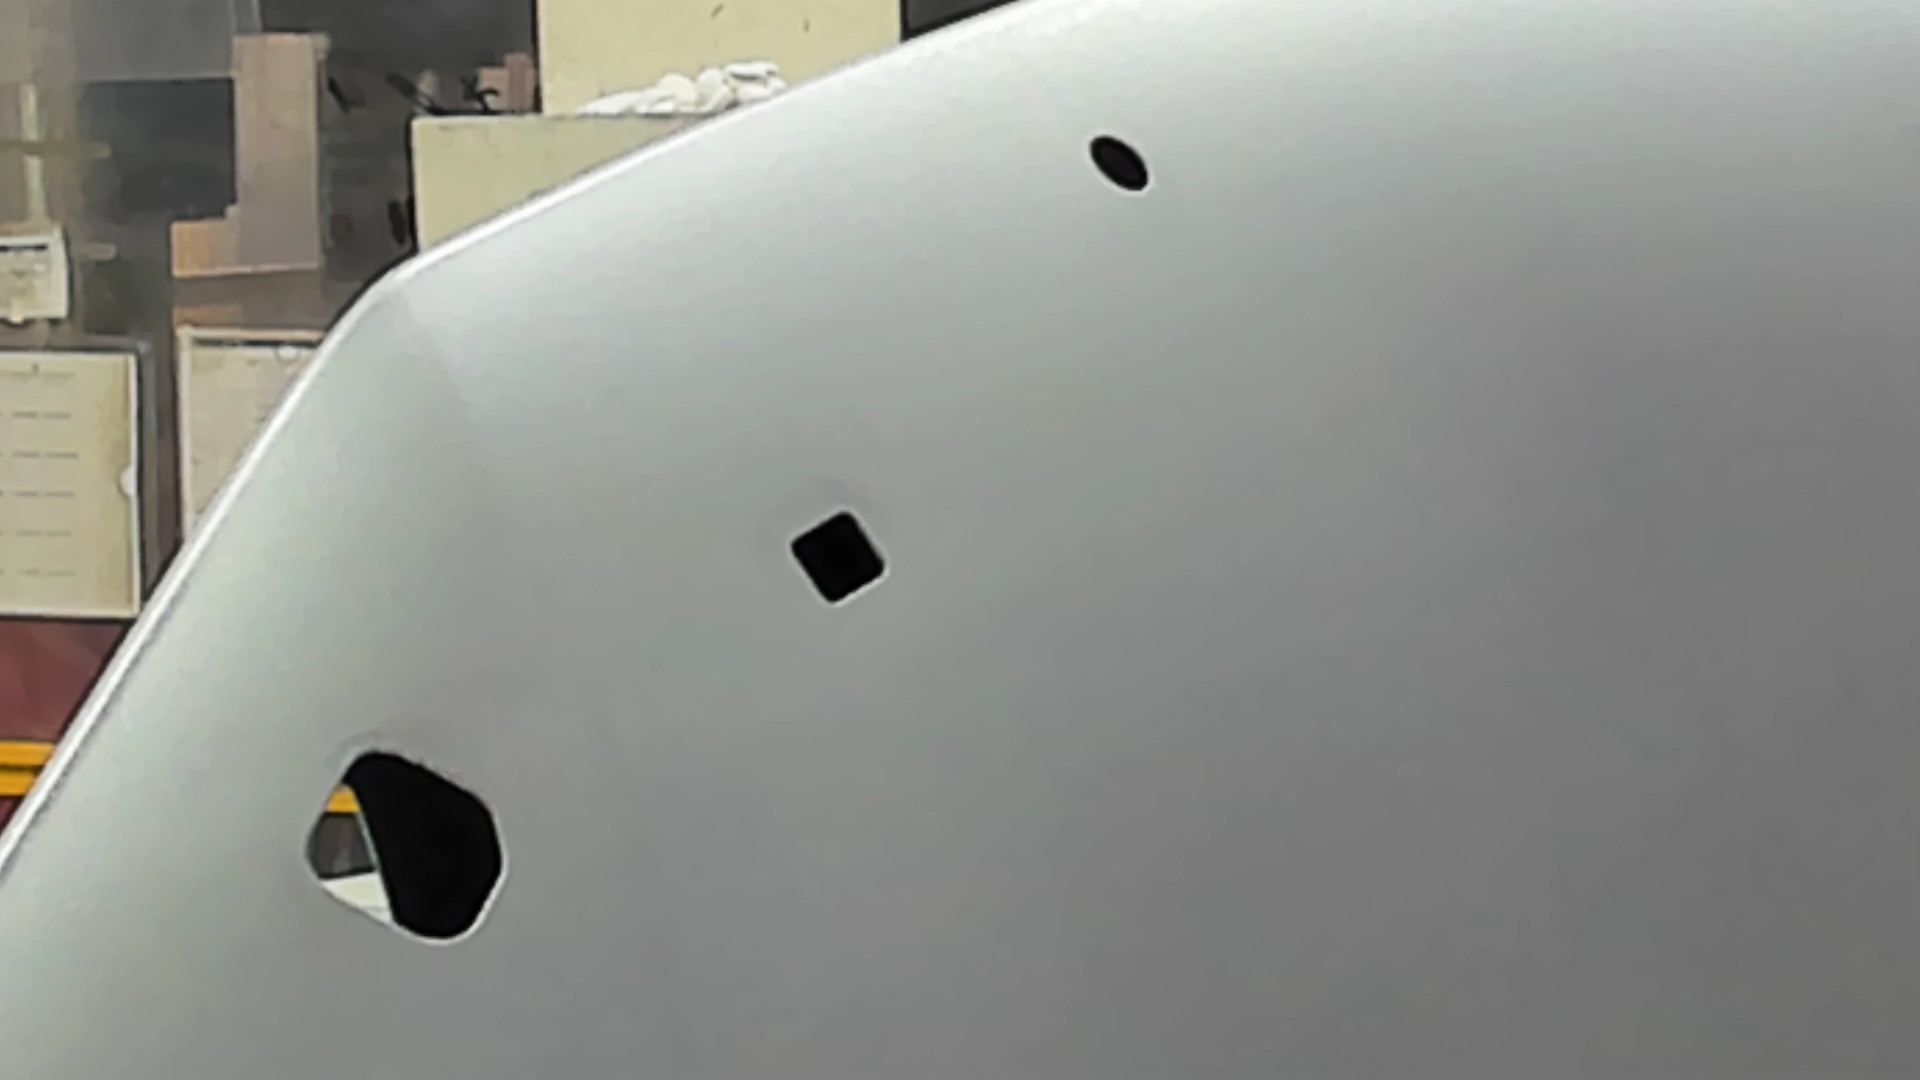capo: (901, 207, 1920, 1080)
chico: (1084, 132, 1154, 195)
grande: (298, 740, 513, 947)
mediano: (779, 500, 891, 611)
